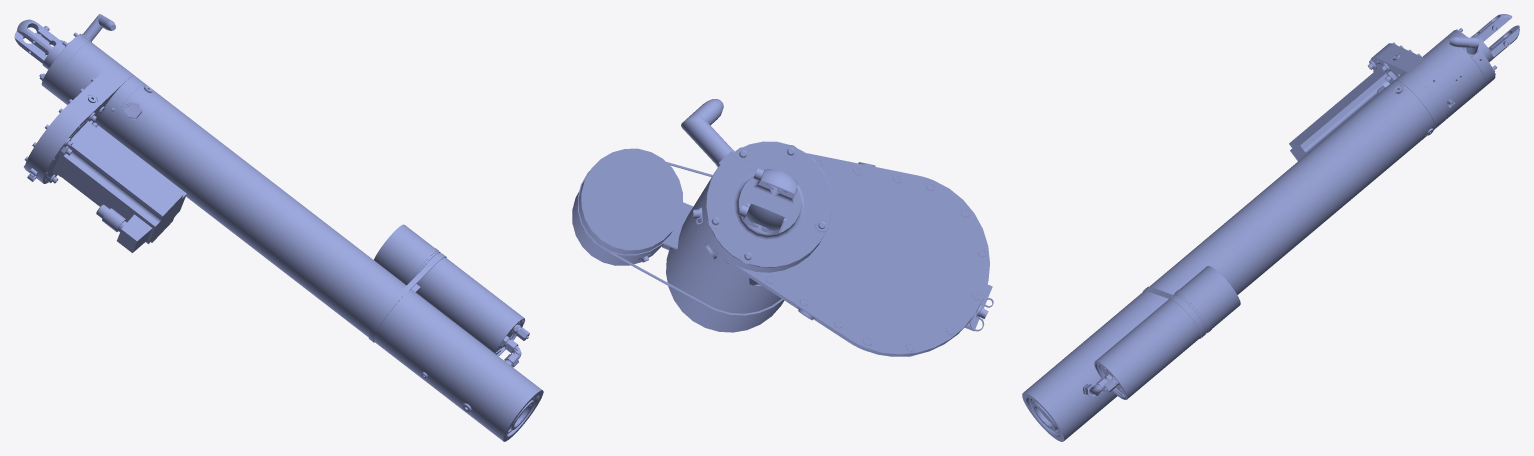
Rendered from CylinderLeft.obj.
3 views of the same model, side by side, from view 1: azimuth 30°, elevation 25°; view 2: azimuth 150°, elevation 25°; view 3: azimuth 270°, elevation 25° (orthographic). The views are drawn at different scales.
Parts seen in each view (by area): view 1: 1200-ActuatorComplete_assy.stp.001; view 2: 1200-ActuatorComplete_assy.stp.001; view 3: 1200-ActuatorComplete_assy.stp.001.
Boxes of the visible parts, x1,y1,x2,y2 form: 1200-ActuatorComplete_assy.stp.001: [14, 14, 543, 441]; 1200-ActuatorComplete_assy.stp.001: [572, 99, 993, 356]; 1200-ActuatorComplete_assy.stp.001: [1022, 14, 1519, 441].
Bounding box in the file's own units: 0.883 × 0.7526 × 1.1.
